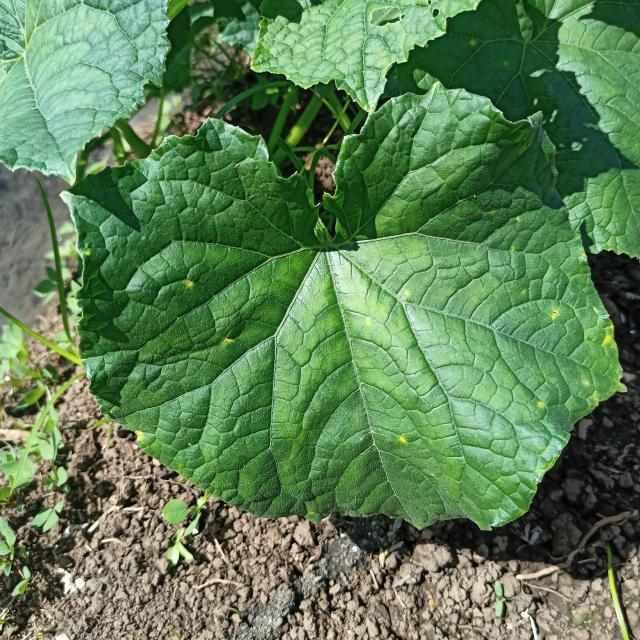disease_cucumber: (602, 324, 620, 348), (551, 309, 560, 320), (221, 337, 234, 344), (136, 429, 144, 440), (184, 279, 193, 288), (83, 250, 92, 258), (399, 436, 407, 444), (404, 291, 410, 297), (538, 401, 544, 407), (366, 318, 371, 325), (582, 252, 586, 258), (510, 248, 514, 252)
